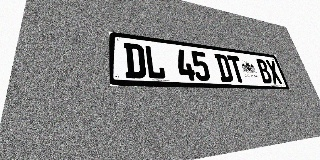4: (175, 49, 196, 81)
5: (190, 51, 211, 81)
B: (255, 58, 273, 84)
D: (124, 42, 146, 79), (214, 53, 234, 82)
L: (144, 45, 166, 79)
T: (227, 55, 246, 83)
X: (265, 60, 283, 84)
